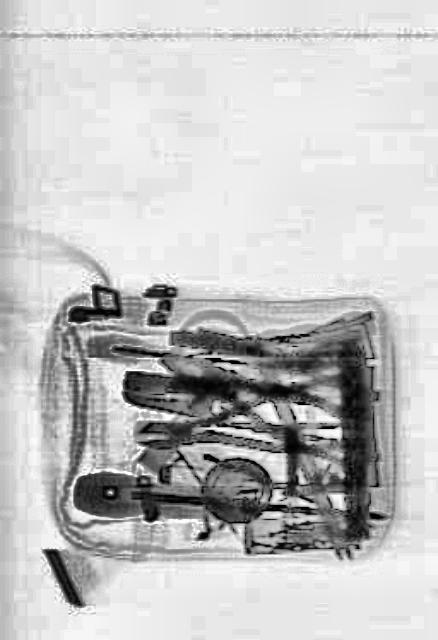Pliers: (154, 323, 344, 463), (132, 377, 346, 471)
